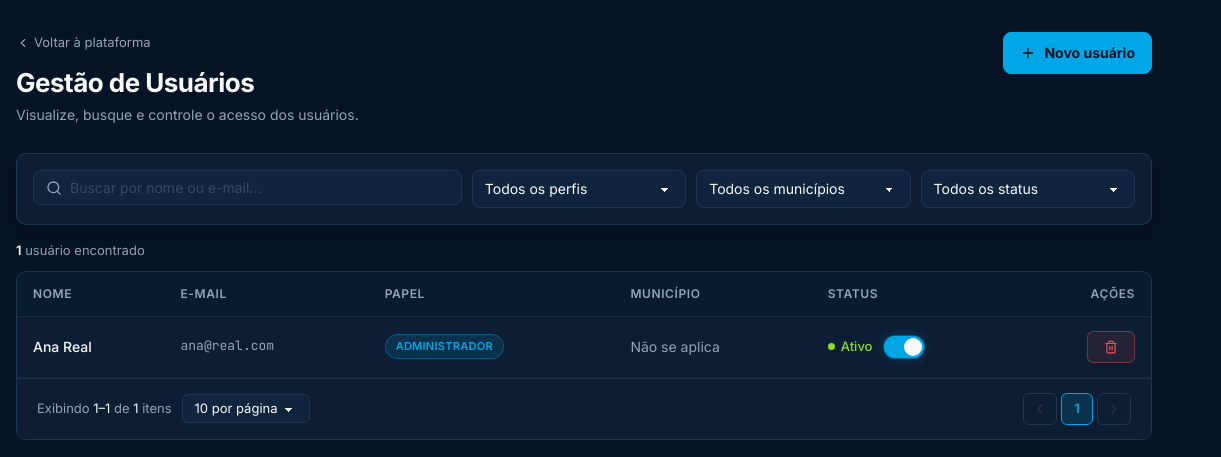
Scenario: Gestão de Usuários › mantém o status anterior quando a alteração falha
This screenshot has width=1221, height=457.
Step 1. Click the switch named "Desativar Ana Real" → (904, 347), box [884,336,924,358]
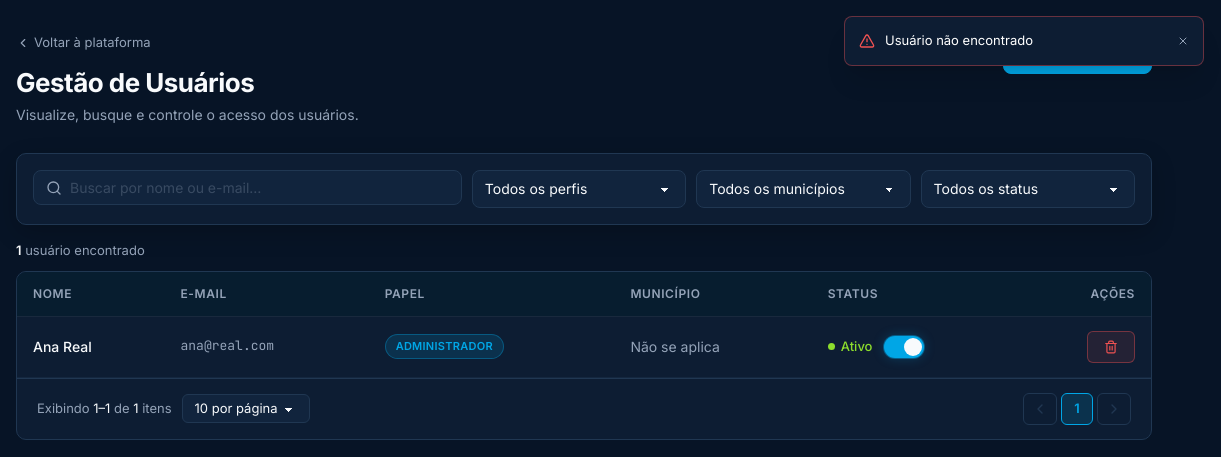
expect the message reads "Usuário não encontrado": met, box [885,32,1033,48]
